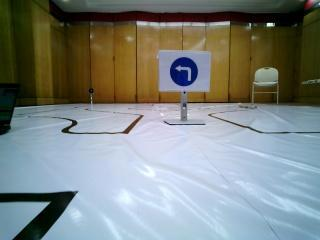left: (160, 51, 209, 92)
